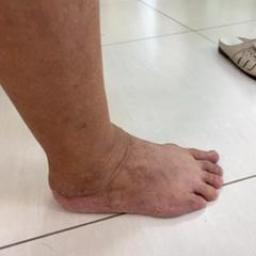Lateral View -Right Foot-: (13, 96, 240, 238)
